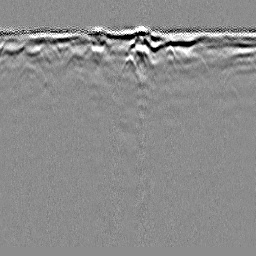cavity: (116, 53, 142, 82)
